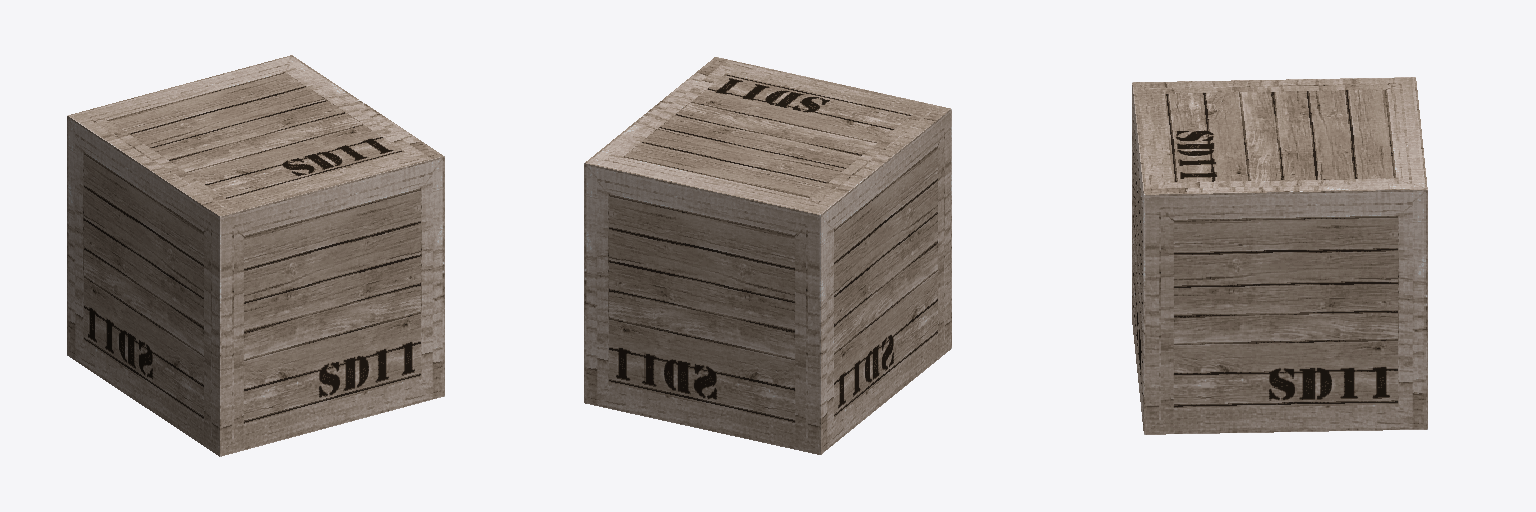
3 renders of one model, left to right at view 1: azimuth 30°, elevation 25°; view 2: azimuth 150°, elevation 25°; view 3: azimuth 270°, elevation 25°, orthographic.
Visible parts, largest first — view 1: box03_Cube.191; view 2: box03_Cube.191; view 3: box03_Cube.191.
Boxes of the visible parts, box(x1,y1,x2,y2) form: box03_Cube.191: box(67, 55, 444, 456); box03_Cube.191: box(584, 57, 951, 454); box03_Cube.191: box(1132, 77, 1427, 434).
Size of the model in its own units: 0.9046 by 0.8607 by 0.9599.
1 materials, 1 textured.